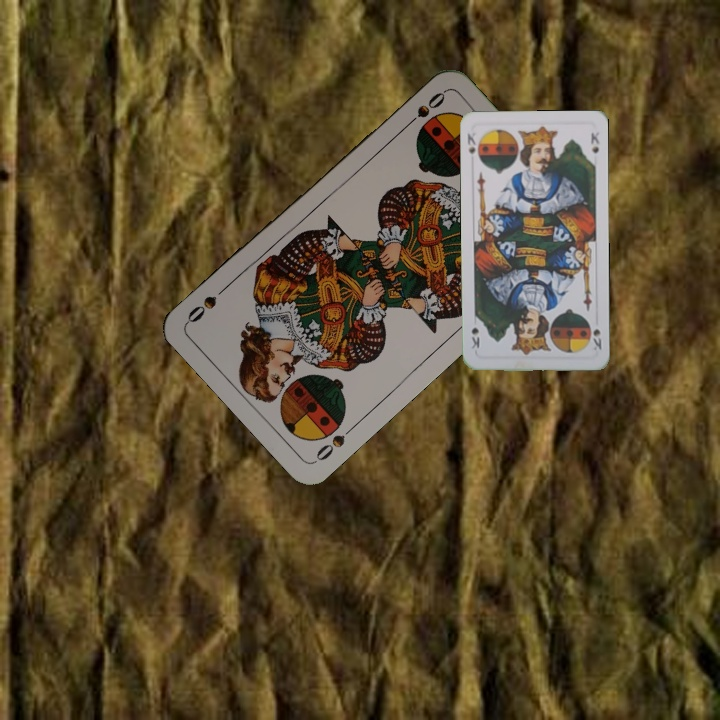SK: (587, 325, 604, 353), (463, 129, 479, 158)
SO: (399, 87, 448, 132), (311, 420, 359, 465)
